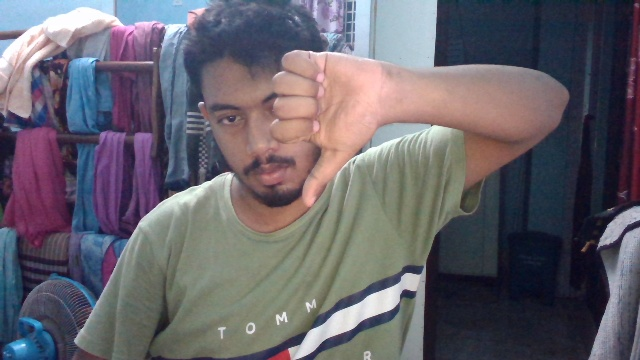no: (268, 42, 390, 208)
